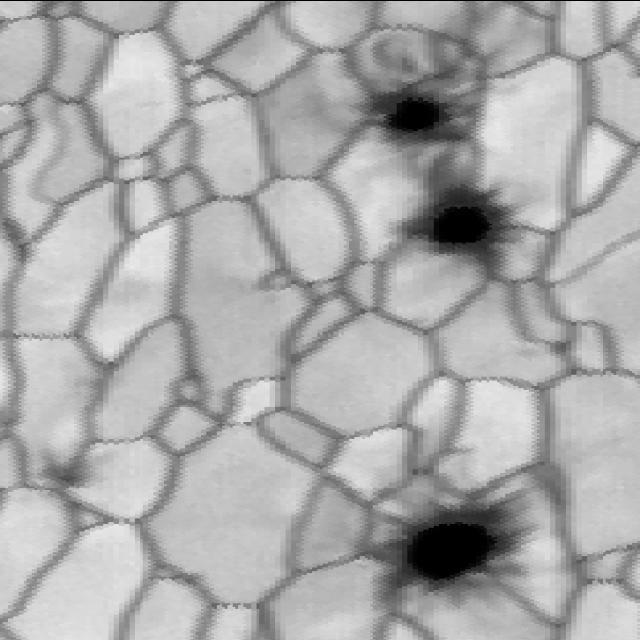good_void: (343, 437, 551, 618), (376, 149, 545, 288), (350, 31, 492, 152), (30, 426, 110, 506), (532, 331, 582, 370)
